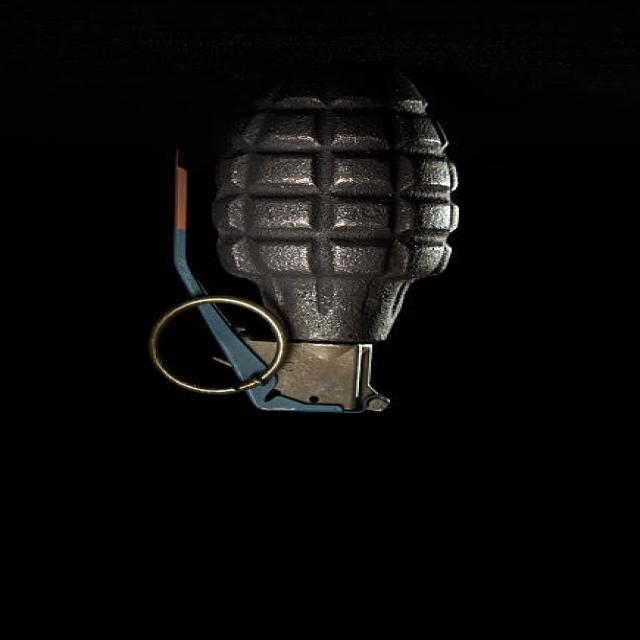grenade: (144, 72, 463, 428)
